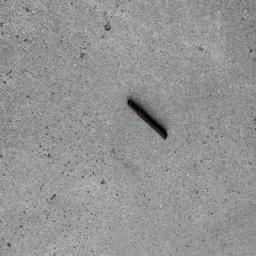FOD: (125, 96, 170, 142)
